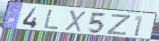1: (133, 15, 145, 37)
4: (21, 6, 39, 30)
5: (86, 11, 108, 34)
L: (42, 9, 60, 31)
X: (64, 9, 87, 33)
Z: (105, 13, 132, 37)
